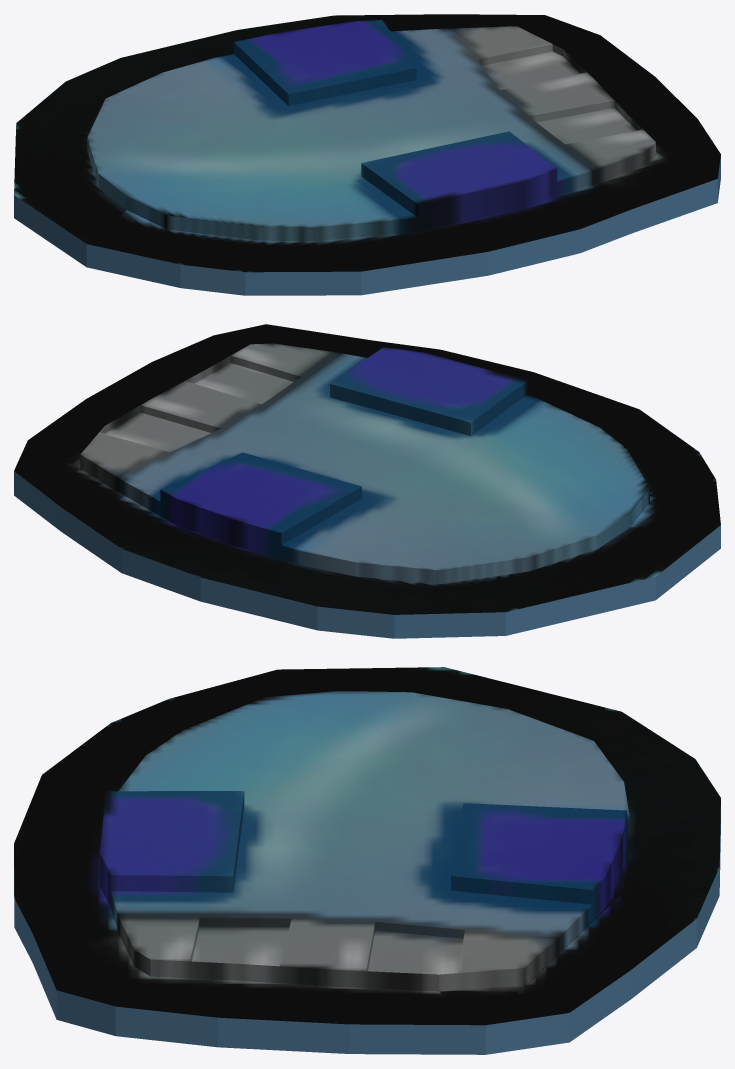
File: BackPropulsor1.fbx
3 views of the same model, one above another, from view 1: azimuth 30°, elevation 25°; view 2: azimuth 150°, elevation 25°; view 3: azimuth 270°, elevation 25° (orthographic). The views are drawn at different scales.
Parts seen in each view (by area): view 1: Plane; view 2: Plane; view 3: Plane.
Part boxes in pixels (x1,y1,x2,y2): Plane: (14, 14, 720, 295); Plane: (14, 324, 720, 638); Plane: (14, 667, 720, 1054).
Bounding box in the file's own units: 272 × 22.32 × 227.
1 material, 1 textured.
